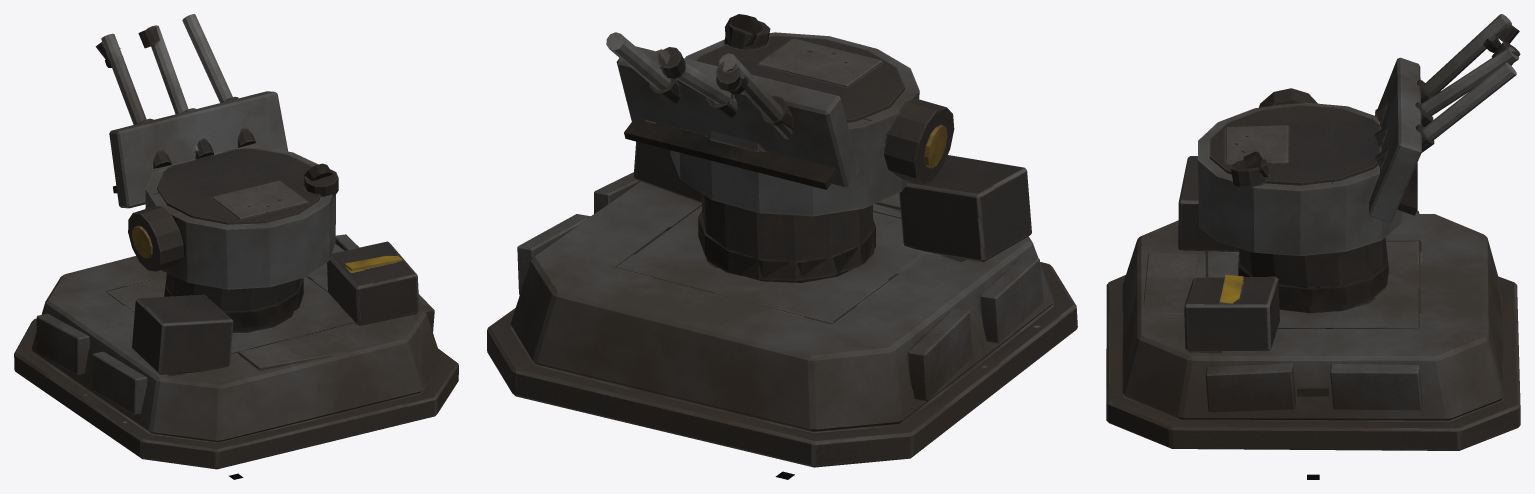
Rendered from chs_hailstorm_wreck.fbx.
3 views of the same model, side by side, from view 1: azimuth 30°, elevation 25°; view 2: azimuth 150°, elevation 25°; view 3: azimuth 270°, elevation 25° (orthographic). The views are drawn at different scales.
Parts seen in each view (by area): view 1: base_bar, turret_bar; view 2: base_bar, turret_bar; view 3: base_bar, turret_bar.
Part boxes in pixels (x1,y1,x2,y2): base_bar: (14,234,458,469); turret_bar: (95,14,338,289); base_bar: (487,141,1077,467); turret_bar: (606,14,954,216); base_bar: (1106,156,1520,450); turret_bar: (1197,14,1520,255).
Bounding box in the file's own units: 665 × 775 × 663.
Materials: 2 (2 with a texture image).
